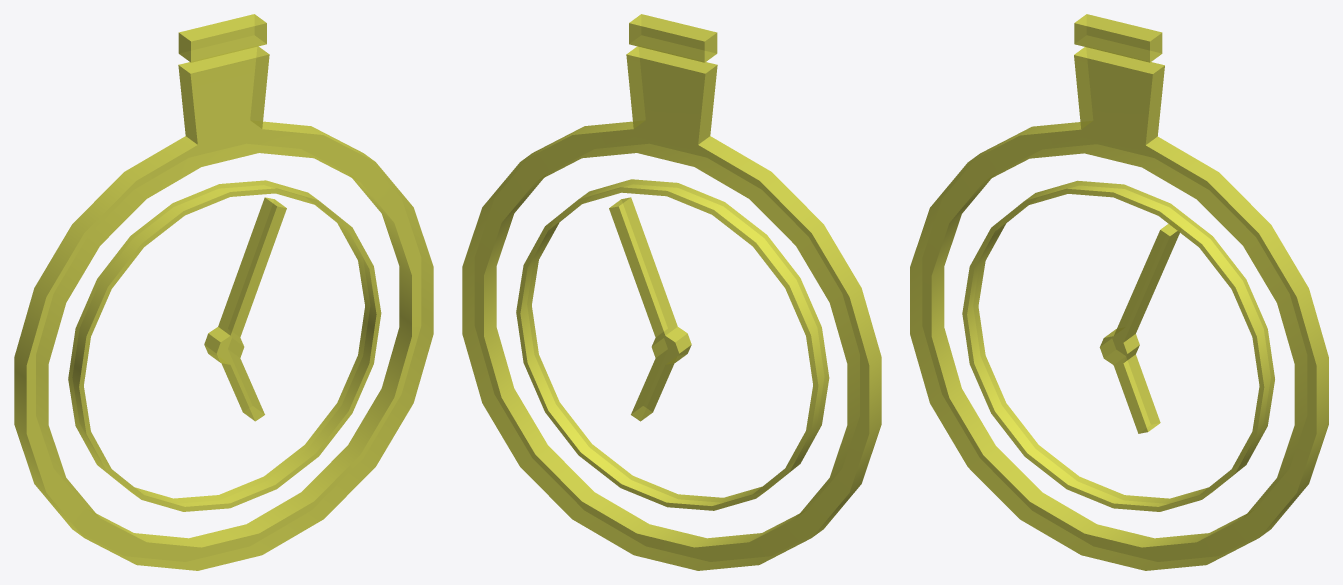
The model's file is powerup_moretime.fbx.
3 renders of one model, left to right at view 1: azimuth 30°, elevation 25°; view 2: azimuth 150°, elevation 25°; view 3: azimuth 330°, elevation 25°, orthographic.
Visible parts, largest first — view 1: powerup_moretime; view 2: powerup_moretime; view 3: powerup_moretime.
Part boxes in pixels (box(x1,y1,x2,y2)): powerup_moretime: box(14, 14, 433, 570); powerup_moretime: box(462, 14, 881, 570); powerup_moretime: box(910, 14, 1328, 570).
Bounding box in the file's own units: 6.41 × 7.99 × 0.3459.
